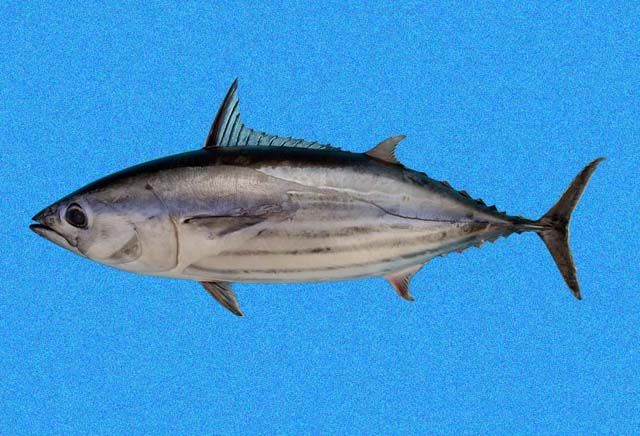fish: (29, 76, 607, 319)
